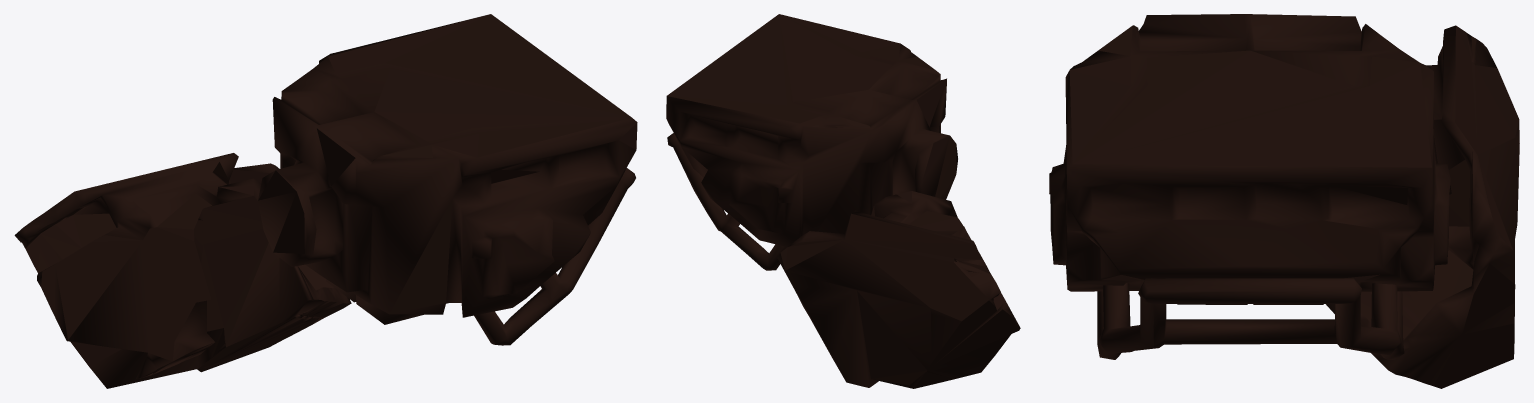
The model's file is debris-2.glb.
3 renders of one model, left to right at view 1: azimuth 30°, elevation 25°; view 2: azimuth 150°, elevation 25°; view 3: azimuth 270°, elevation 25°, orthographic. The views are drawn at different scales.
Size of the model in its own units: 3.19 by 1.79 by 2.14.
